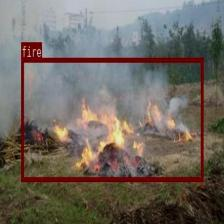fire: (20, 57, 202, 181)
